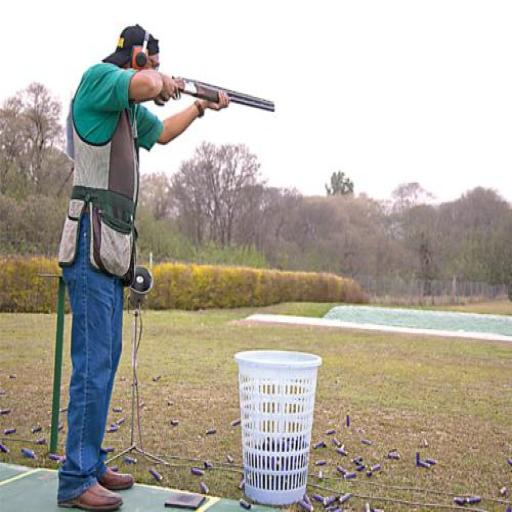shooting: (54, 22, 232, 510)
